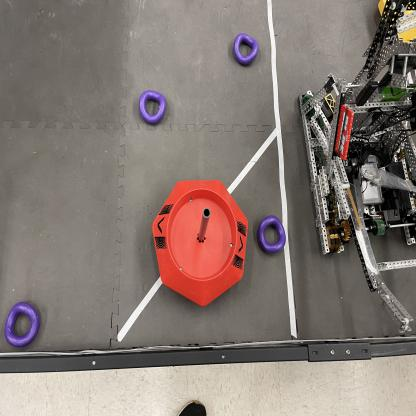ring: (4, 302, 40, 346), (256, 214, 286, 254), (137, 90, 166, 125), (232, 32, 259, 65)
